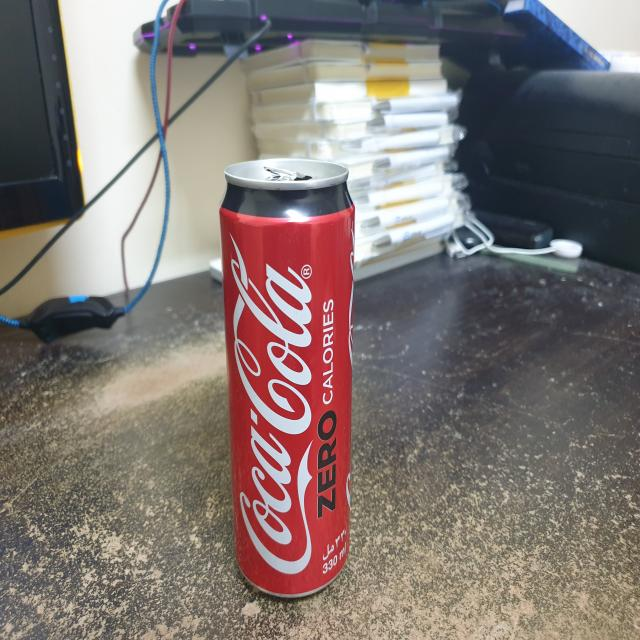non-organic waste: (217, 147, 363, 606)
